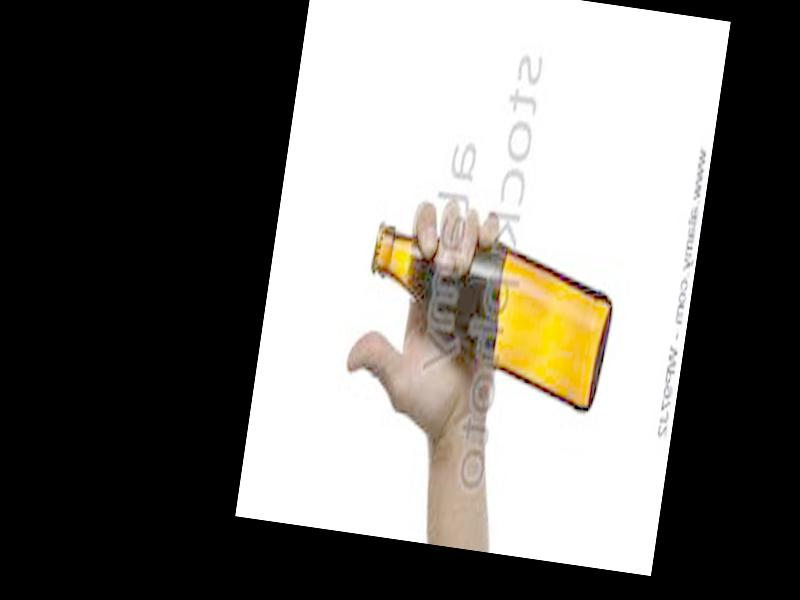Beer: (357, 218, 619, 416)
